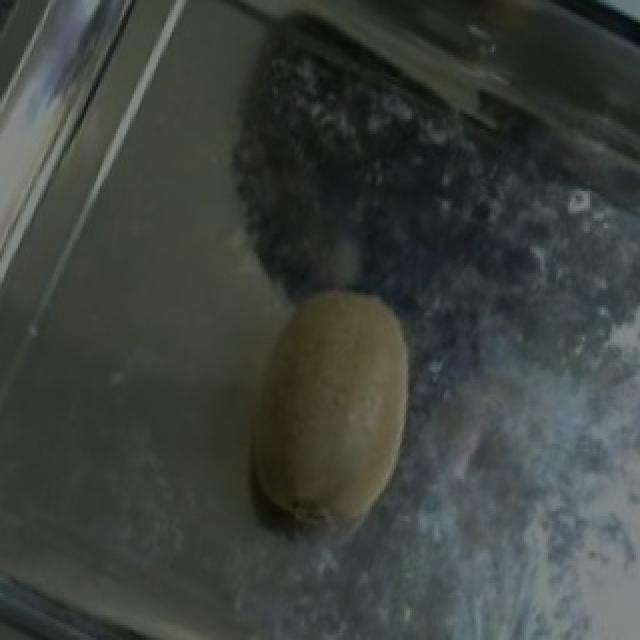Fruit: (210, 248, 440, 553)
